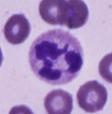N: (28, 30, 85, 84)
